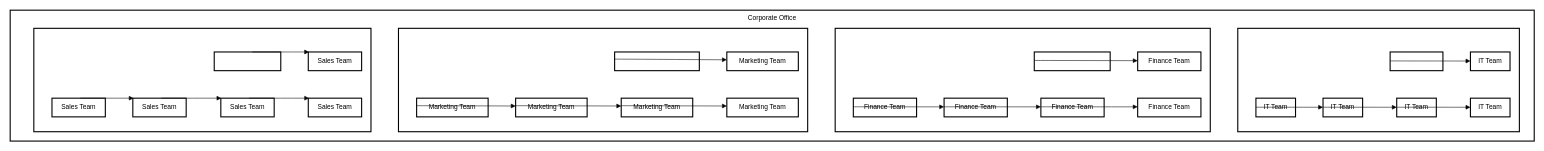
Some shapes in this 1544 by 151 pixel diagram are drawn without their labels. Each missing label, with the box of its shape:
Finance Department: (834, 28, 1211, 132)
Finance Manager: (1033, 51, 1110, 71)
IT Department: (1237, 28, 1520, 132)
IT Manager: (1389, 51, 1443, 71)
Marketing Department: (398, 28, 808, 132)
Marketing Manager: (614, 51, 700, 71)
Sales Department: (33, 28, 371, 132)
Sales Manager: (213, 51, 281, 71)
